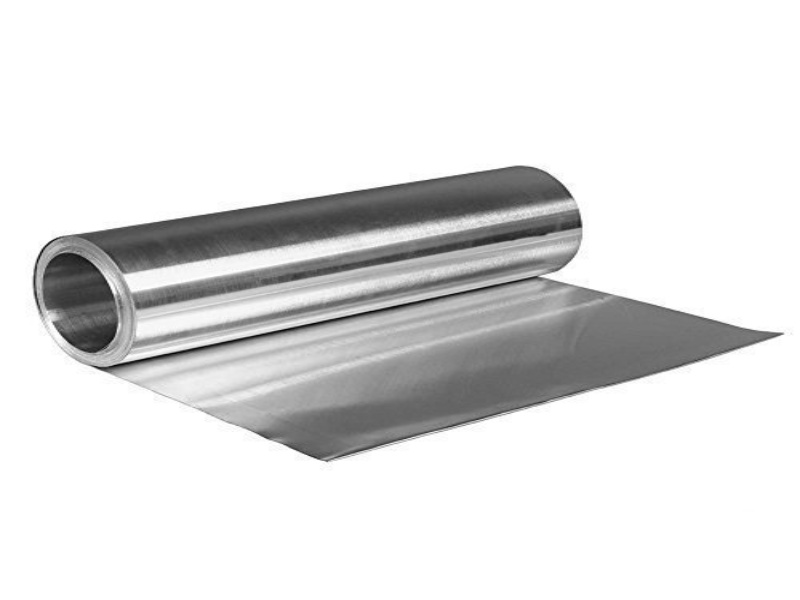Alluminium_foil_Recyc: (17, 154, 797, 467)
